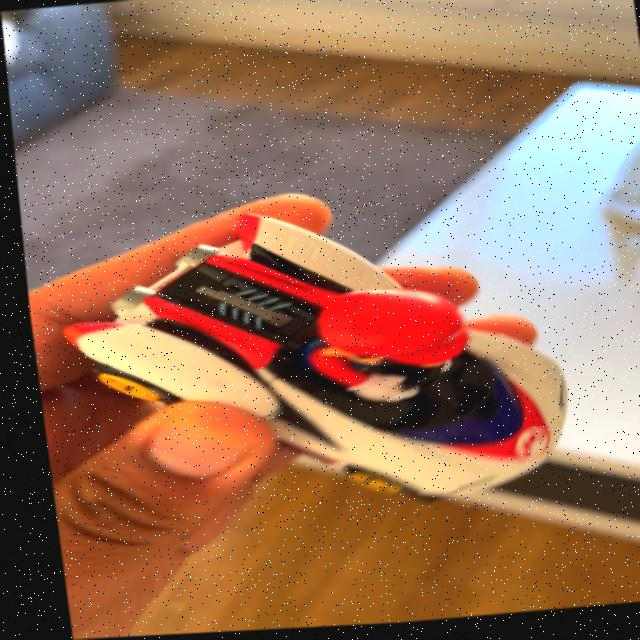mario: (22, 184, 614, 539)
